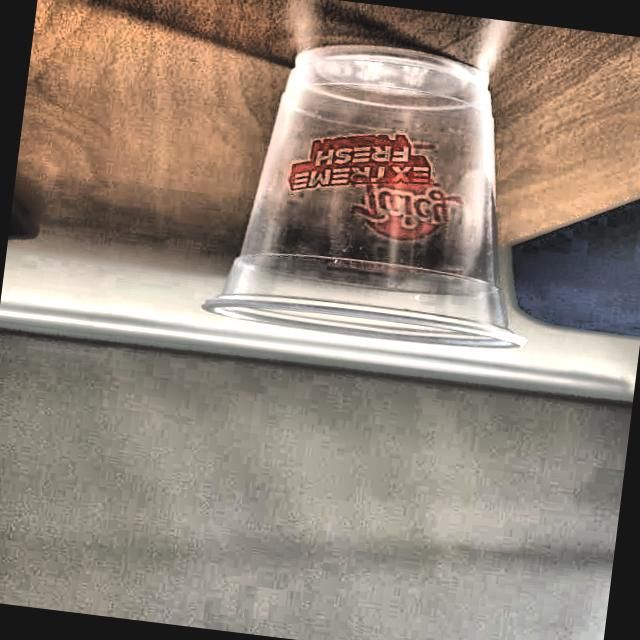plastic cup: (200, 25, 564, 360)
